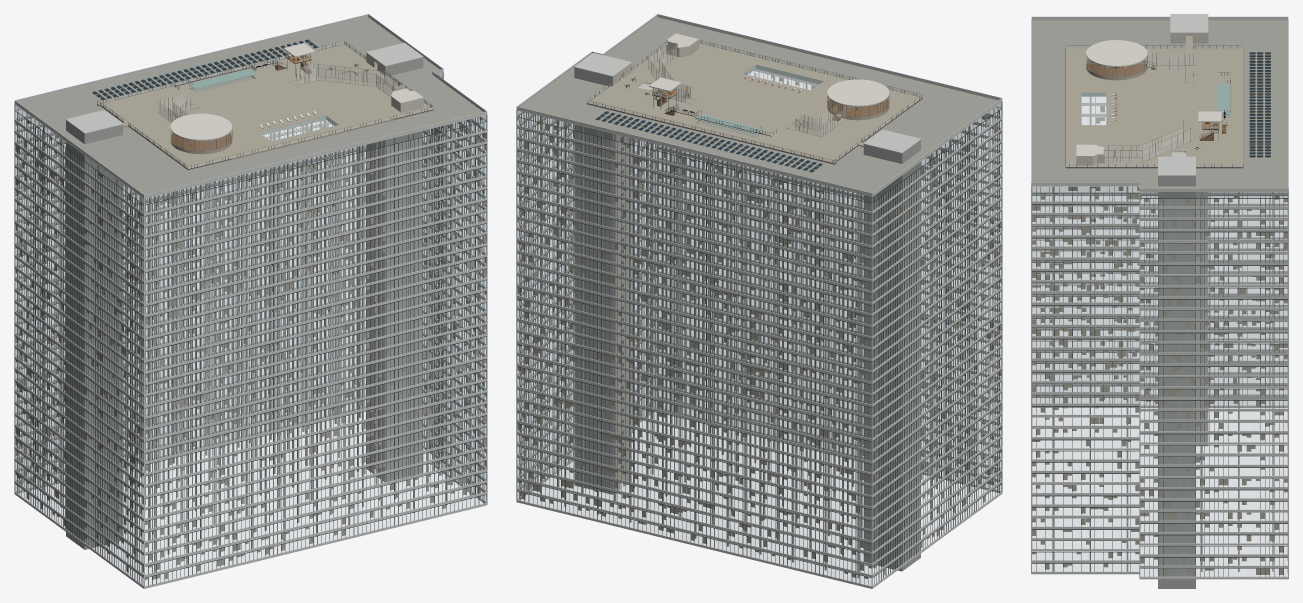
Rendered from context.glb.
The picture shows the model from 3 angles, left to right: view 1: azimuth 30°, elevation 25°; view 2: azimuth 150°, elevation 25°; view 3: azimuth 270°, elevation 25°; orthographic projection.
Parts seen in each view (by area): view 1: HEPHAESTUS_exterior_context / cell 0,0,0, HEPHAESTUS_exterior_context / cell 0,0,1; view 2: HEPHAESTUS_exterior_context / cell 0,0,0, HEPHAESTUS_exterior_context / cell 0,0,1; view 3: HEPHAESTUS_exterior_context / cell 0,0,0, HEPHAESTUS_exterior_context / cell 0,0,1.
Boxes of the visible parts, x1,y1,x2,y2 form: HEPHAESTUS_exterior_context / cell 0,0,0: [14, 115, 486, 588]; HEPHAESTUS_exterior_context / cell 0,0,1: [14, 14, 487, 588]; HEPHAESTUS_exterior_context / cell 0,0,0: [517, 69, 1002, 588]; HEPHAESTUS_exterior_context / cell 0,0,1: [516, 14, 1002, 588]; HEPHAESTUS_exterior_context / cell 0,0,0: [1031, 97, 1288, 579]; HEPHAESTUS_exterior_context / cell 0,0,1: [1031, 14, 1288, 588].
Bounding box in the file's own units: 131 × 152 × 83.28.
44 materials, 9 textured.
